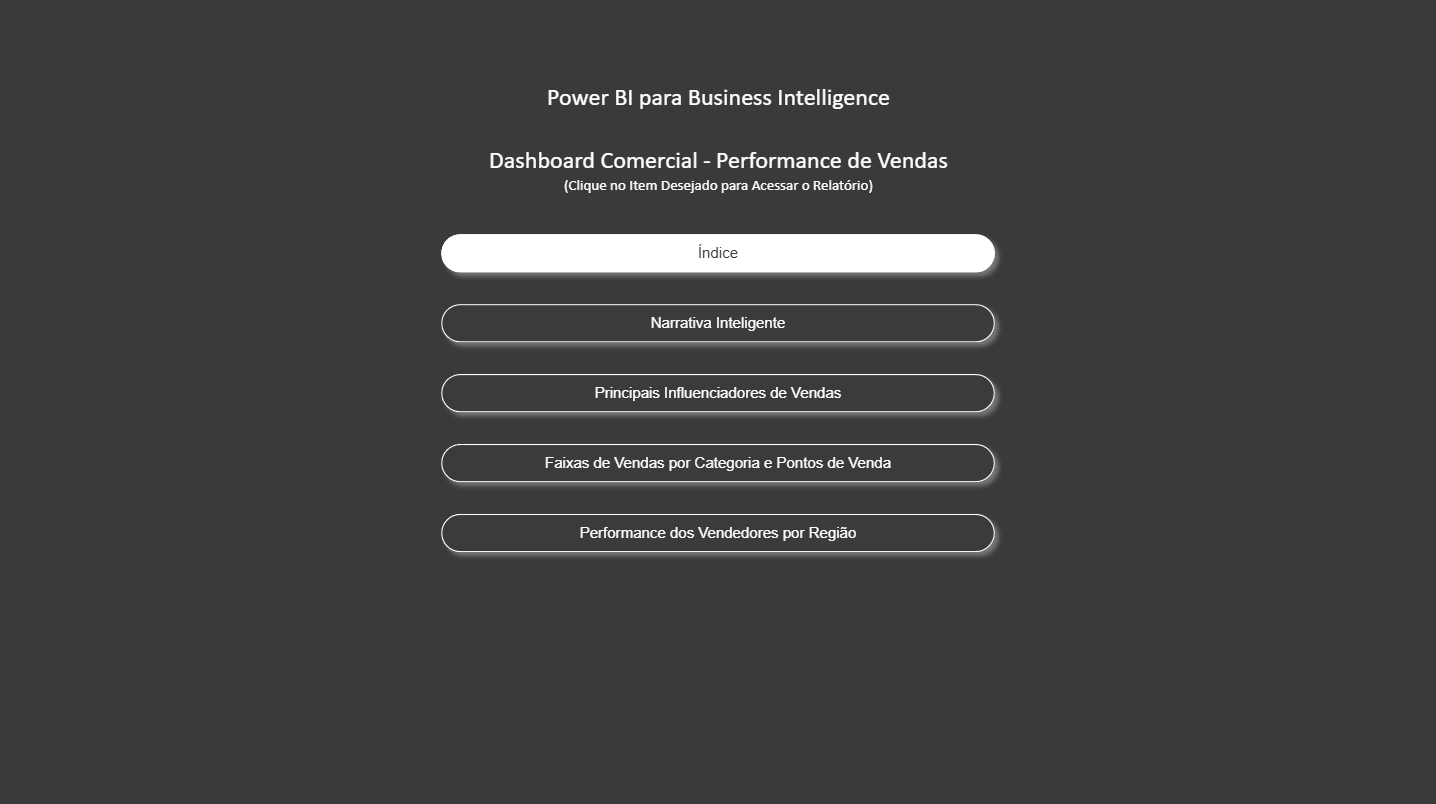

Layout of this report page (visuals, bound fields, positions):
{"tool":"powerbi","page":{"name":"Índice","canvas":[1280,720],"ordinal":0},"visuals":[{"type":"pageNavigator","box":[384.8,201.3,509.9,301.5],"z":0},{"type":"textbox","box":[384.8,70.9,509.9,130.3],"z":1}]}

Visuals, with their boxes in screenshot pixels (x1, y1, x2, y2), scaled from the page's 1280x720 canvas onto the 1436x804 screenshot:
pageNavigator: 432/225/1004/561
textbox: 432/79/1004/225
